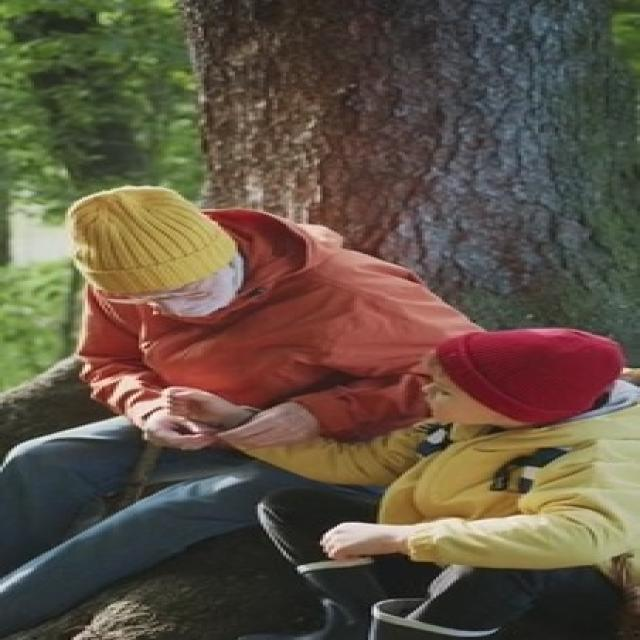Jacket_Wearer: (80, 251, 502, 444)
Person: (5, 172, 487, 523)
